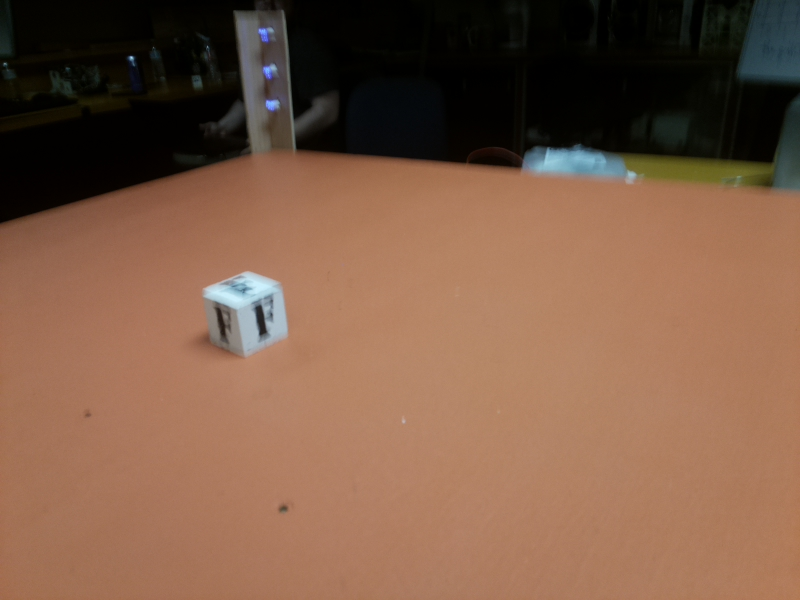blockF: (200, 267, 287, 368)
corner: (231, 3, 300, 164)
